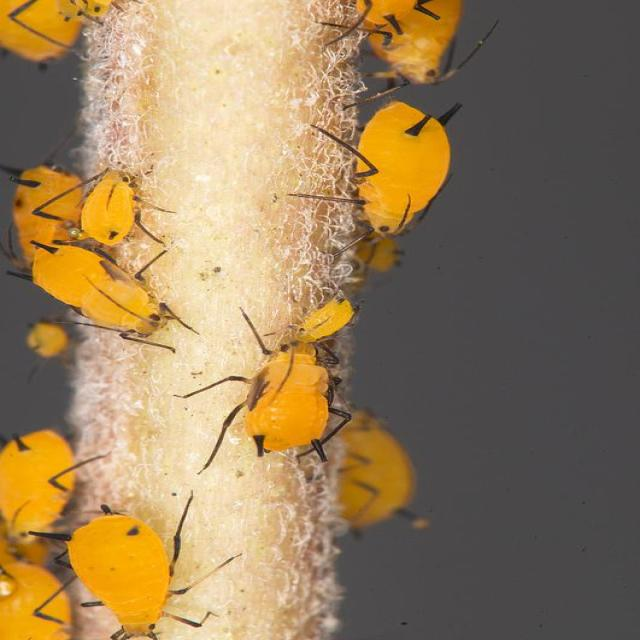Aphids: (288, 92, 470, 250), (1, 222, 193, 362), (42, 497, 215, 640), (221, 320, 364, 470), (36, 144, 168, 260), (275, 280, 372, 358)
